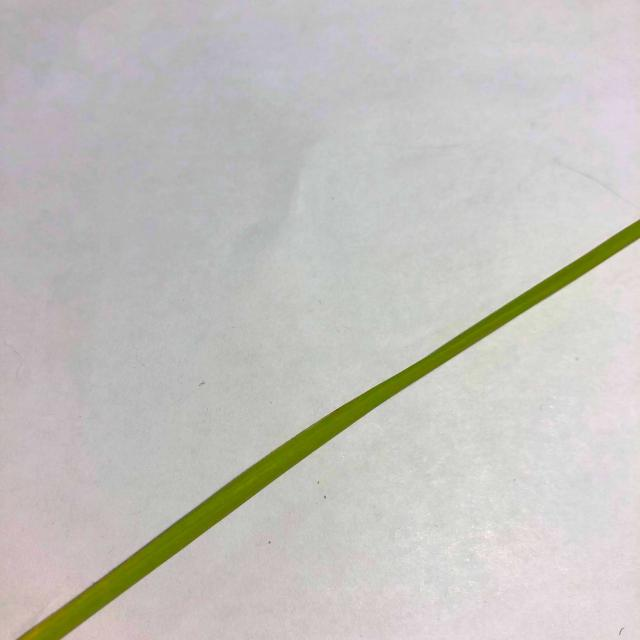Rice_Healthy: (17, 220, 640, 640)
